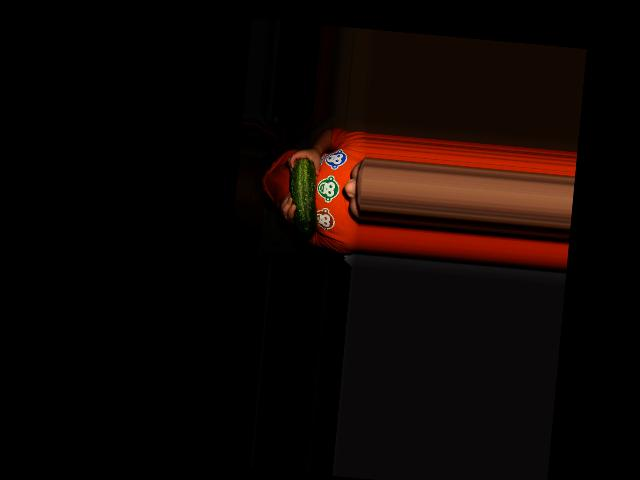cucumber: (285, 156, 322, 238)
